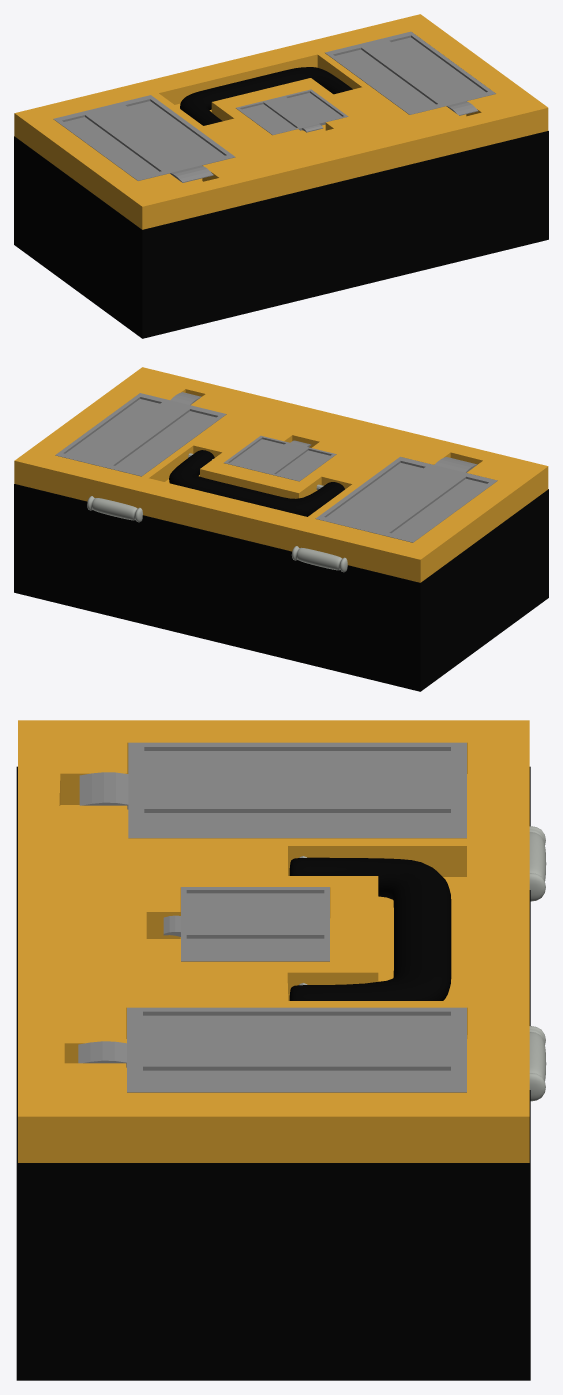
Rendered from AletCantasi.fbx.
The picture shows the model from 3 angles, top to bottom: view 1: azimuth 30°, elevation 25°; view 2: azimuth 150°, elevation 25°; view 3: azimuth 270°, elevation 25°; orthographic projection. The views are drawn at different scales.
Parts seen in each view (by area): view 1: Cube, Cube.003, Cube.004, Cube.005, Cube.006, Cube.007; view 2: Cube, Cube.003, Cube.004, Cube.005, Cube.007, Cube.006, Cube.002, Cube.001; view 3: Cube.003, Cube, Cube.004, Cube.005, Cube.007, Cube.006, Cube.001, Cube.002.
Boxes of the visible parts, x1=… form: Cube: x1=14, y1=131, x2=548, y2=338; Cube.003: x1=14, y1=14, x2=548, y2=229; Cube.004: x1=53, y1=95, x2=235, y2=182; Cube.005: x1=325, y1=31, x2=495, y2=115; Cube.006: x1=236, y1=89, x2=348, y2=135; Cube.007: x1=180, y1=67, x2=352, y2=125; Cube: x1=14, y1=484, x2=548, y2=691; Cube.003: x1=14, y1=367, x2=548, y2=582; Cube.004: x1=315, y1=456, x2=497, y2=542; Cube.005: x1=55, y1=392, x2=226, y2=476; Cube.007: x1=169, y1=450, x2=344, y2=516; Cube.006: x1=224, y1=435, x2=336, y2=481; Cube.002: x1=87, y1=496, x2=142, y2=522; Cube.001: x1=291, y1=546, x2=347, y2=572; Cube.003: x1=18, y1=720, x2=529, y2=1162; Cube: x1=16, y1=766, x2=530, y2=1380; Cube.004: x1=79, y1=742, x2=466, y2=838; Cube.005: x1=78, y1=1007, x2=466, y2=1092; Cube.007: x1=289, y1=857, x2=451, y2=1000; Cube.006: x1=163, y1=887, x2=329, y2=961; Cube.001: x1=529, y1=826, x2=546, y2=901; Cube.002: x1=529, y1=1026, x2=546, y2=1101.
Bounding box in the file's own units: 342 × 107 × 193.
